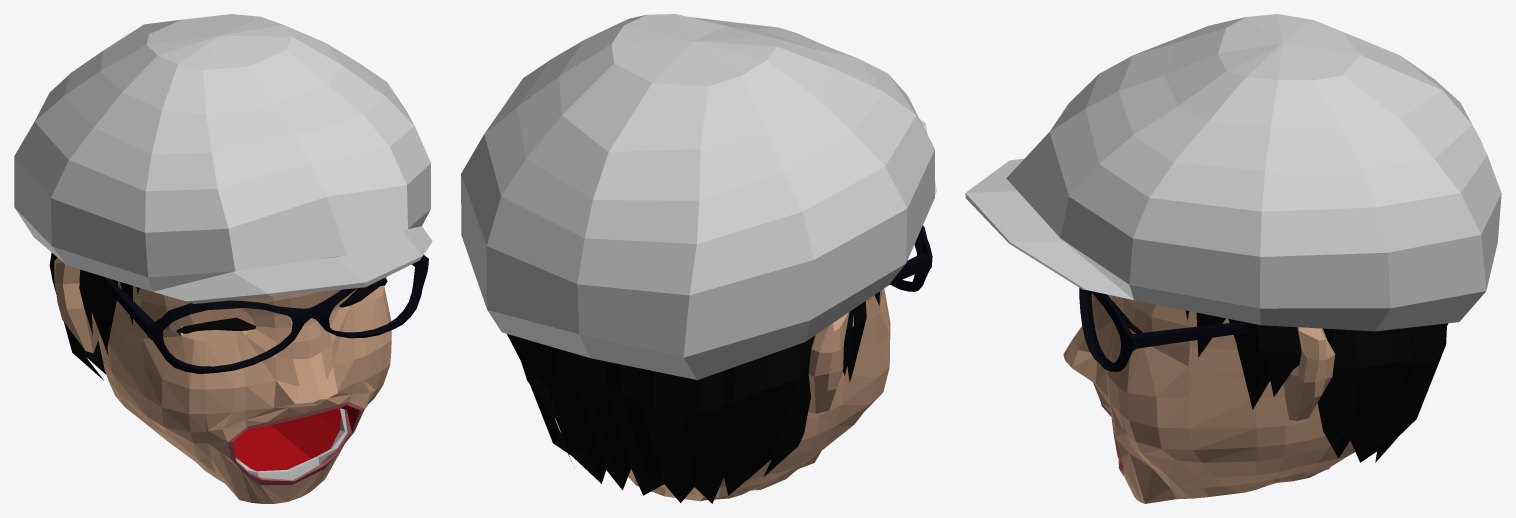
Rendered from face_fix.obj.
3 views of the same model, side by side, from view 1: azimuth 30°, elevation 25°; view 2: azimuth 150°, elevation 25°; view 3: azimuth 270°, elevation 25° (orthographic). The views are drawn at different scales.
Parts seen in each view (by area): view 1: huku_face_Cube.002; view 2: huku_face_Cube.002; view 3: huku_face_Cube.002.
Part boxes in pixels (box(x1,y1,x2,y2)): huku_face_Cube.002: box(14, 14, 432, 503); huku_face_Cube.002: box(461, 14, 936, 503); huku_face_Cube.002: box(965, 14, 1501, 503).
Bounding box in the file's own units: 0.5226 × 0.5834 × 0.6347.
